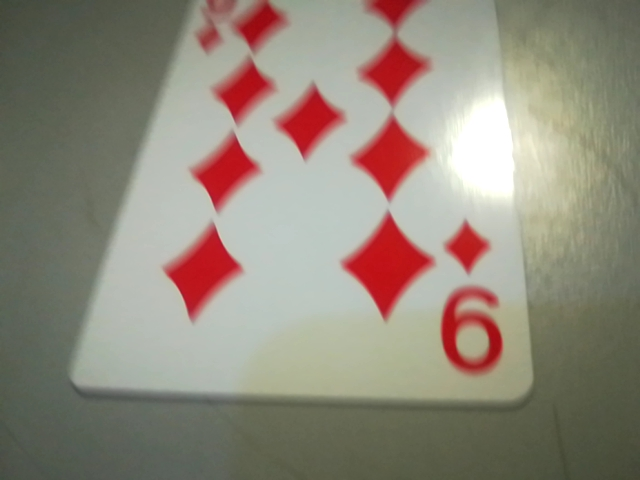fk 9: (429, 212, 518, 386)
